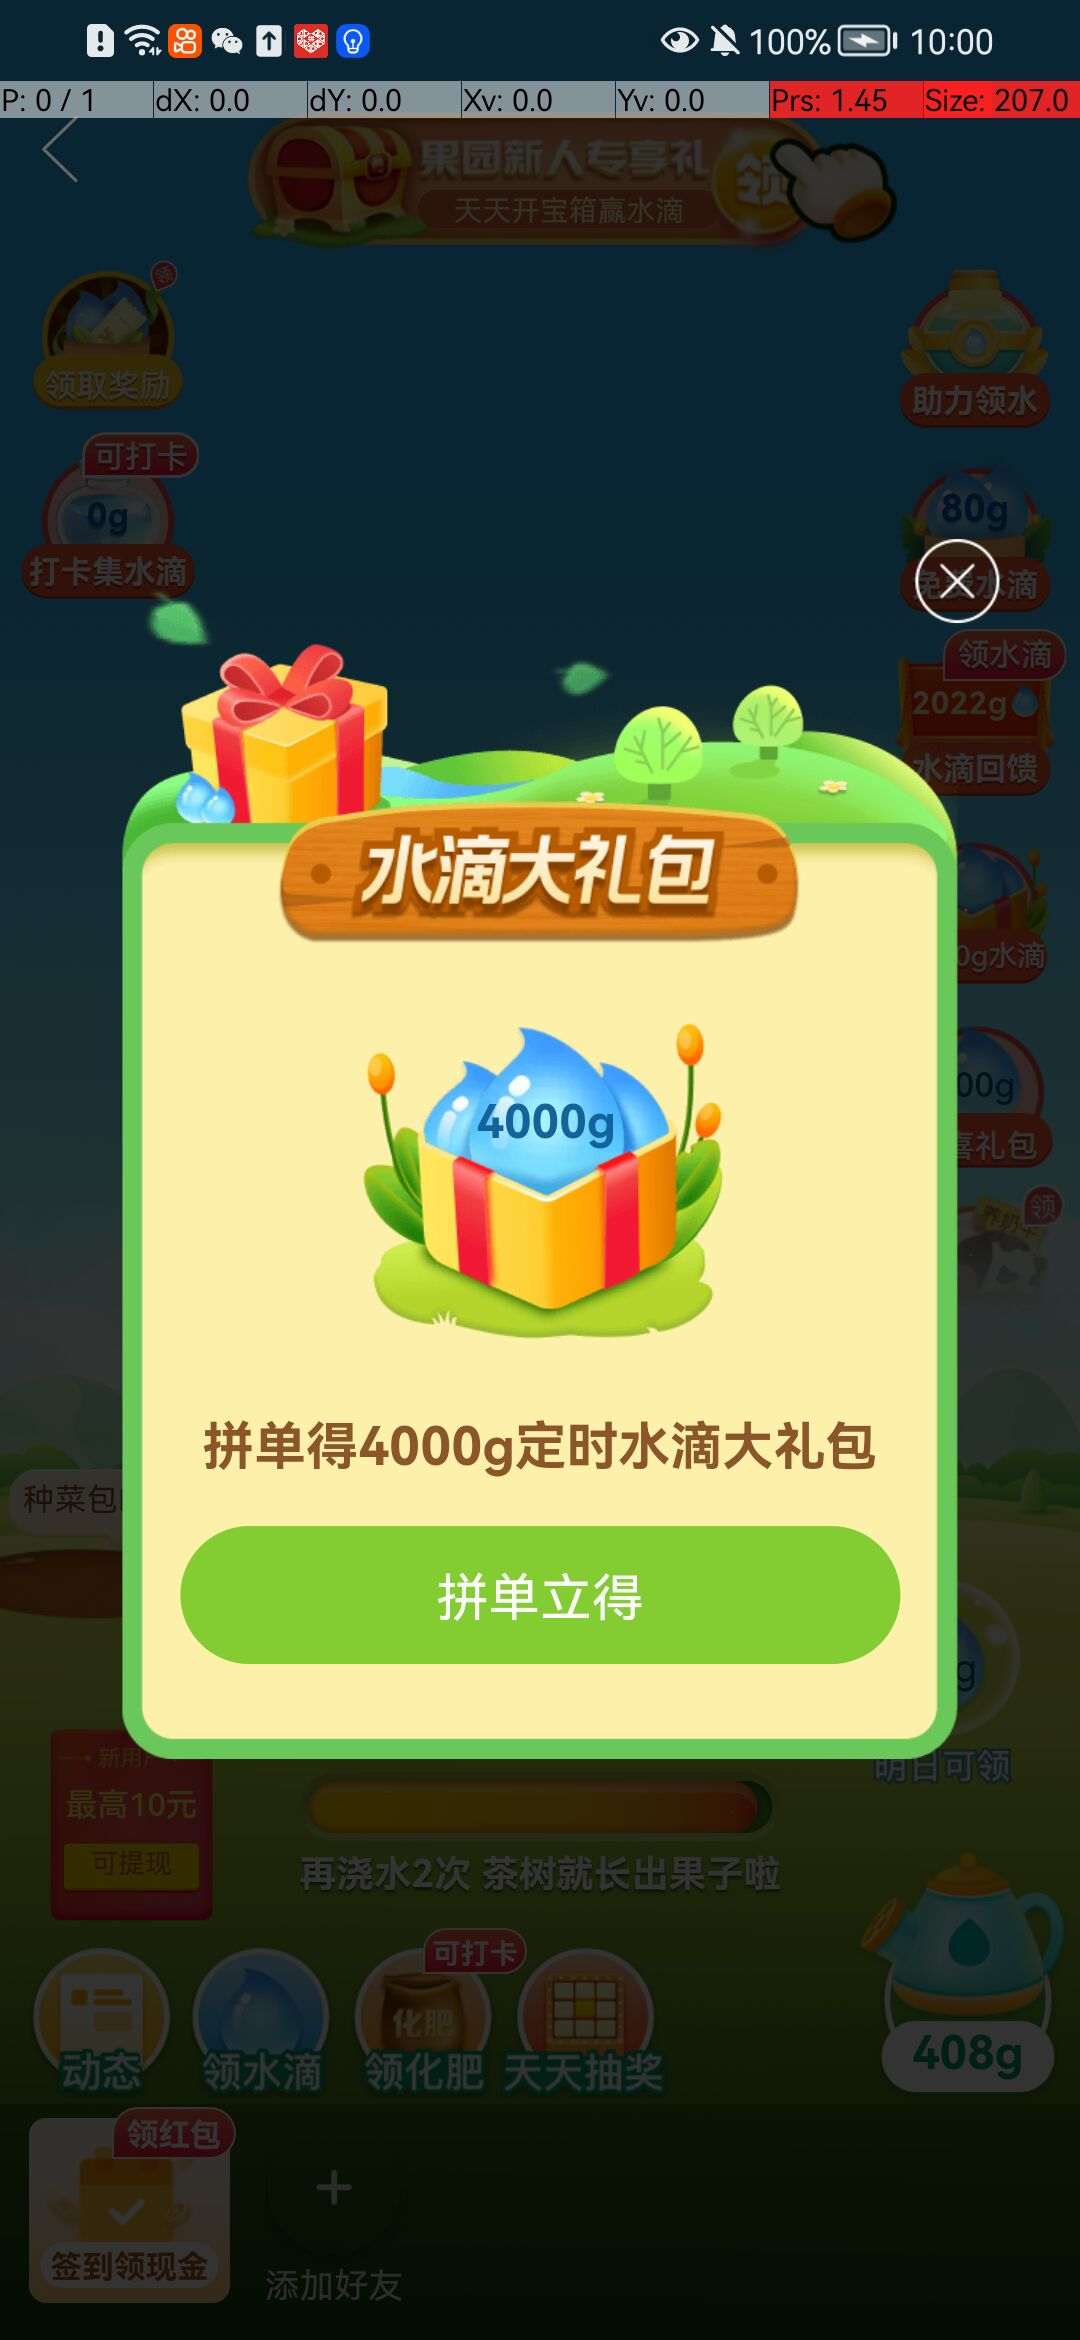popup: (911, 548, 1002, 624)
